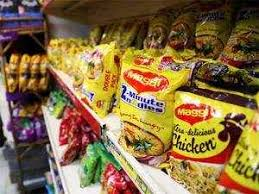maggie: (119, 63, 173, 166)
